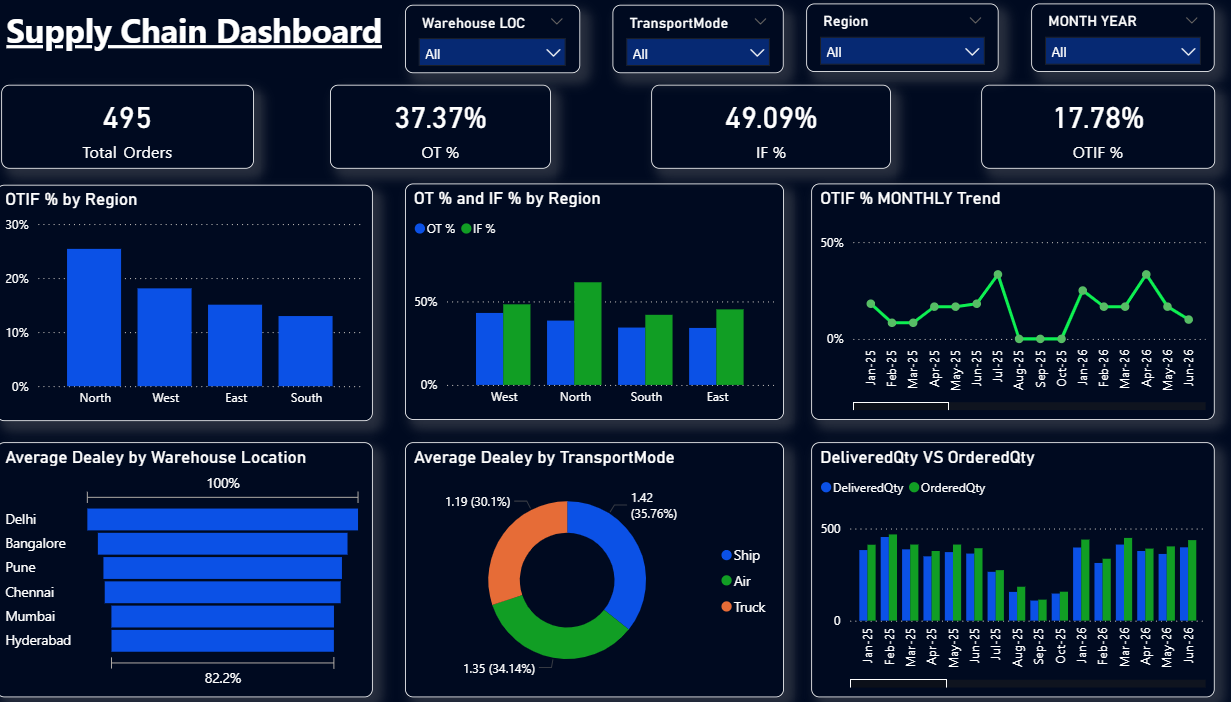

This screenshot's page, from the dashboard's own definition file:
{"tool":"powerbi","page":{"name":"Page 1","canvas":[1280,720],"ordinal":0},"visuals":[{"type":"card","fields":{"Values":["MEASURE.Total_Order"]},"box":[40.5,92,247.9,82.2],"z":0},{"type":"card","fields":{"Values":["MEASURE.OT %"]},"box":[363.2,92,217.2,82.2],"z":1},{"type":"card","fields":{"Values":["MEASURE.IF %"]},"box":[678.5,92,235.6,82.2],"z":2},{"type":"card","fields":{"Values":["MEASURE.OTIF %"]},"box":[1002.5,92,229.4,82.2],"z":3},{"type":"clusteredColumnChart","fields":{"Category":["FACT_SCM.Region"],"Y":["MEASURE.OTIF %"]},"box":[35.6,190.2,369.3,231.9],"z":4},{"type":"clusteredColumnChart","fields":{"Category":["FACT_SCM.Region"],"Y":["MEASURE.OT %","MEASURE.IF %"]},"box":[436.8,189,371.8,231.9],"z":5},{"type":"lineChart","title":"OTIF % MONTHLY Trend","fields":{"Y":["MEASURE.OTIF %"],"Category":["DATE_TABLE.MONTH YEAR"]},"box":[835.6,189,396.3,231.9],"z":6},{"type":"funnel","fields":{"Category":["DIM_MATERIAL.Warehouse Location"],"Y":["MEASURE.Average Dealey"]},"box":[35.6,442.9,369.3,250.3],"z":7},{"type":"donutChart","fields":{"Y":["MEASURE.Average Dealey"],"Category":["FACT_SCM.TransportMode"]},"box":[436.8,442.9,371.8,250.3],"z":8},{"type":"clusteredColumnChart","title":"DeliveredQty VS OrderedQty","fields":{"Category":["DATE_TABLE.MONTH YEAR"],"Y":["Sum(FACT_SCM.DeliveredQty)","Sum(FACT_SCM.OrderedQty)"]},"box":[835.6,442.9,396.3,250.3],"z":9},{"type":"textbox","box":[40.5,12.3,384.1,54],"z":10},{"type":"slicer","fields":{"Values":["DATE_TABLE.MONTH YEAR"]},"box":[1051.5,12.3,180.4,67.5],"z":11},{"type":"actionButton","box":[0,0,100,40],"z":12},{"type":"slicer","fields":{"Values":["FACT_SCM.Region"]},"box":[830.7,12.3,189,67.5],"z":13},{"type":"slicer","fields":{"Values":["FACT_SCM.TransportMode"]},"box":[640.5,13.5,168.1,67.5],"z":14},{"type":"slicer","fields":{"Values":["DIM_MATERIAL.Warehouse Location"]},"box":[436.8,13.5,171.8,67.5],"z":15}]}

Visuals, with their boxes in screenshot pixels (x1, y1, x2, y2), scaled from the page's 1280x720 canvas onto the 1231x702 screenshot:
card - MEASURE.Total_Order: <bbox>39, 90, 277, 170</bbox>
card - MEASURE.OT %: <bbox>349, 90, 558, 170</bbox>
card - MEASURE.IF %: <bbox>653, 90, 879, 170</bbox>
card - MEASURE.OTIF %: <bbox>964, 90, 1185, 170</bbox>
clusteredColumnChart - FACT_SCM.Region x MEASURE.OTIF %: <bbox>34, 185, 389, 412</bbox>
clusteredColumnChart - FACT_SCM.Region x MEASURE.OT %: <bbox>420, 184, 778, 410</bbox>
"OTIF % MONTHLY Trend" lineChart: <bbox>804, 184, 1185, 410</bbox>
funnel - DIM_MATERIAL.Warehouse Location x MEASURE.Average Dealey: <bbox>34, 432, 389, 676</bbox>
donutChart - MEASURE.Average Dealey x FACT_SCM.TransportMode: <bbox>420, 432, 778, 676</bbox>
"DeliveredQty VS OrderedQty" clusteredColumnChart: <bbox>804, 432, 1185, 676</bbox>
textbox: <bbox>39, 12, 408, 65</bbox>
slicer - DATE_TABLE.MONTH YEAR: <bbox>1011, 12, 1185, 78</bbox>
actionButton: <bbox>0, 0, 96, 39</bbox>
slicer - FACT_SCM.Region: <bbox>799, 12, 981, 78</bbox>
slicer - FACT_SCM.TransportMode: <bbox>616, 13, 778, 79</bbox>
slicer - DIM_MATERIAL.Warehouse Location: <bbox>420, 13, 585, 79</bbox>
